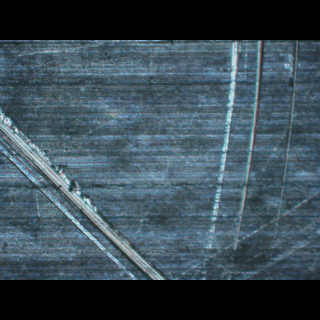d: (0, 107, 177, 280), (193, 40, 305, 269)
